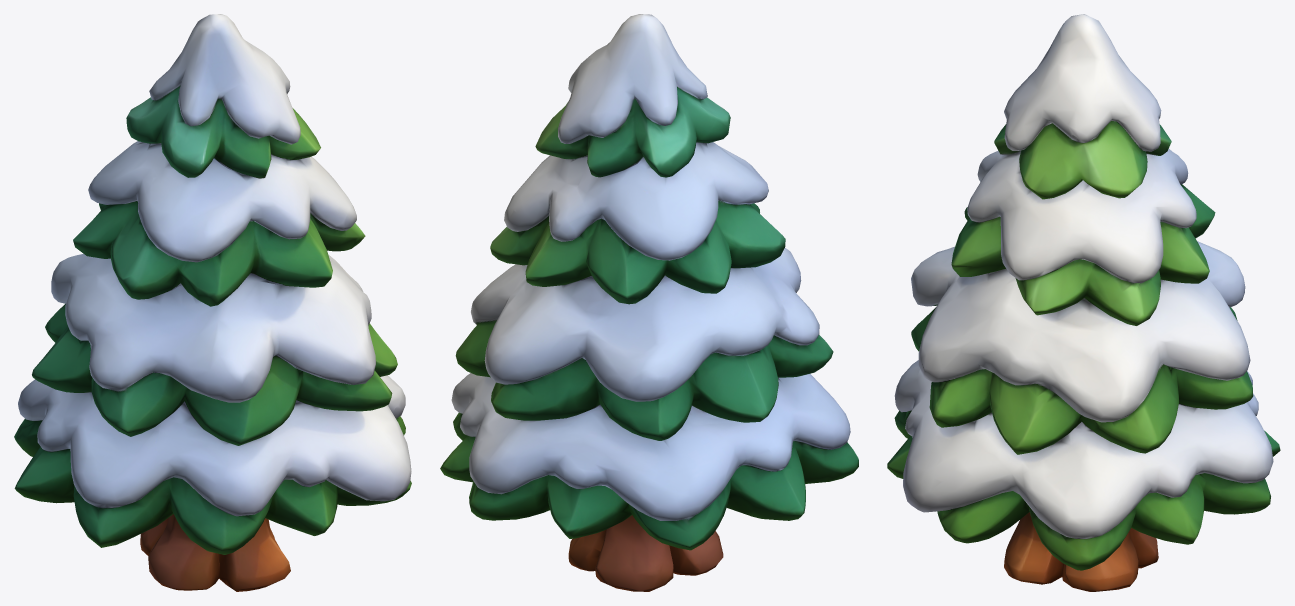
File: pine_raw.glb
The picture shows the model from 3 angles, left to right: view 1: azimuth 30°, elevation 25°; view 2: azimuth 150°, elevation 25°; view 3: azimuth 270°, elevation 25°; orthographic projection.
Parts seen in each view (by area): view 1: tripo_node_56e5006c-b7b0-4427-844f-ed990c5ce833; view 2: tripo_node_56e5006c-b7b0-4427-844f-ed990c5ce833; view 3: tripo_node_56e5006c-b7b0-4427-844f-ed990c5ce833.
Boxes of the visible parts, box(x1,y1,x2,y2) form: tripo_node_56e5006c-b7b0-4427-844f-ed990c5ce833: box(14, 14, 411, 591); tripo_node_56e5006c-b7b0-4427-844f-ed990c5ce833: box(440, 14, 858, 591); tripo_node_56e5006c-b7b0-4427-844f-ed990c5ce833: box(887, 14, 1280, 591).
Size of the model in its own units: 0.701 by 1 by 0.6475.
1 material, 1 textured.
